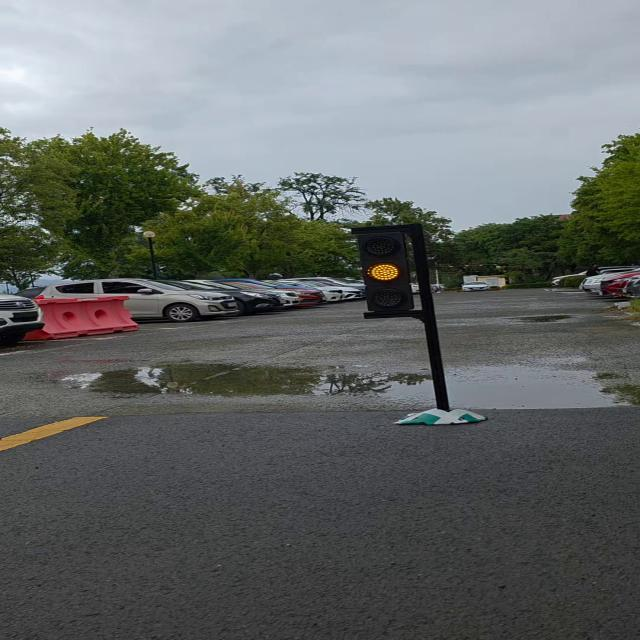yellow: (347, 224, 432, 322)
